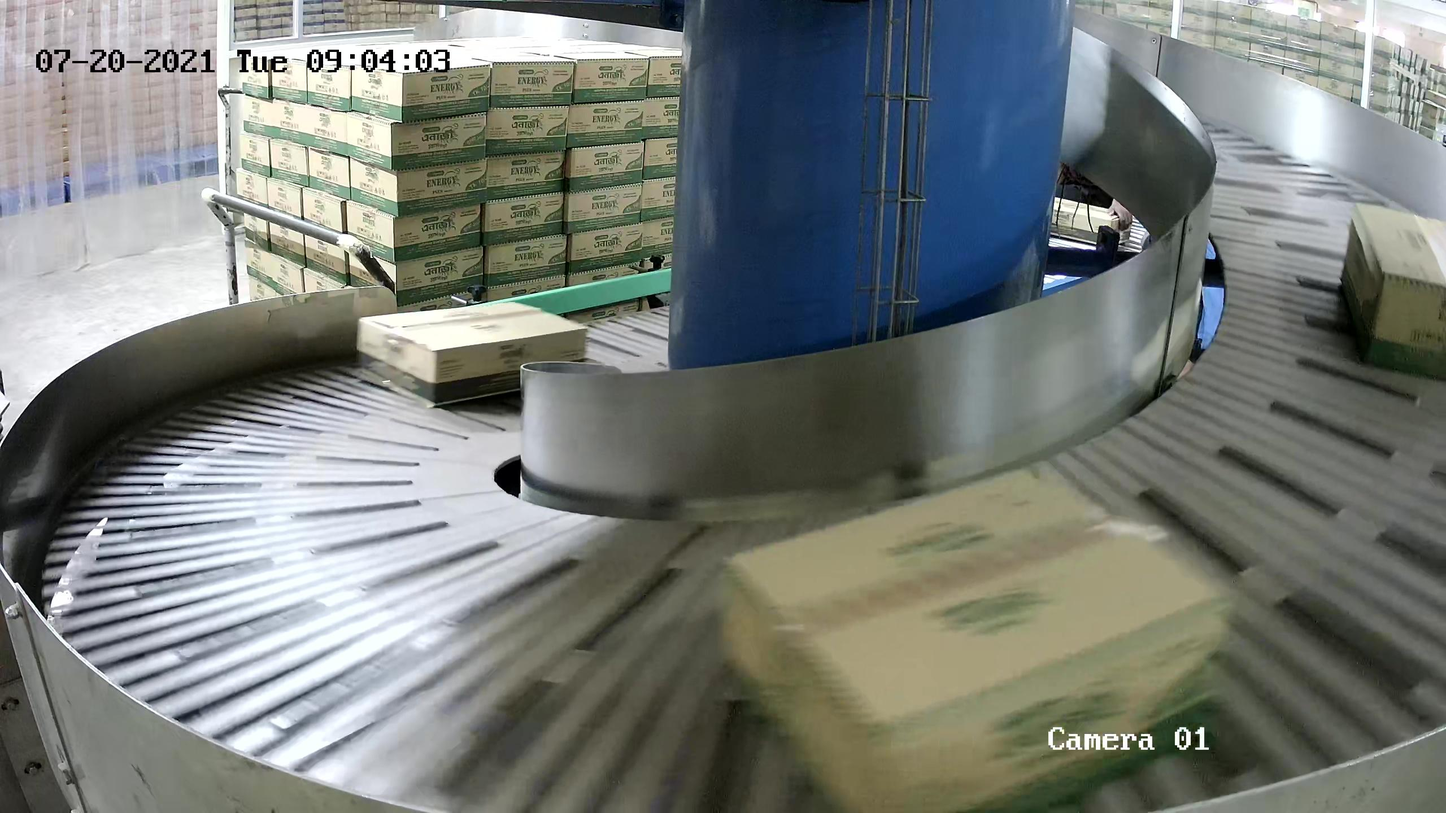Box: (721, 460, 1233, 813), (357, 301, 588, 406), (1341, 201, 1446, 388)
